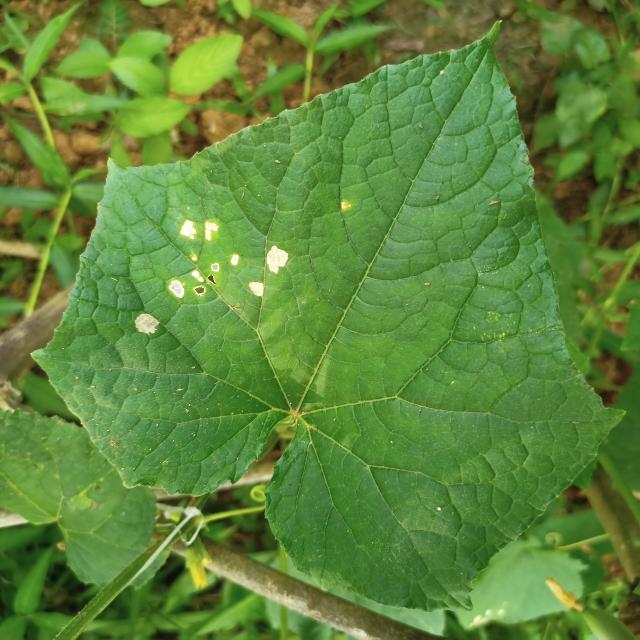disease_cucumber: (134, 219, 289, 340)
